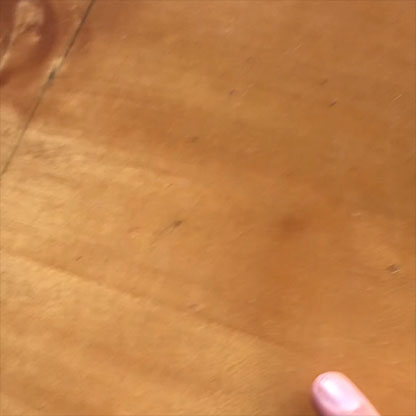fingertip: (301, 363, 375, 415)
